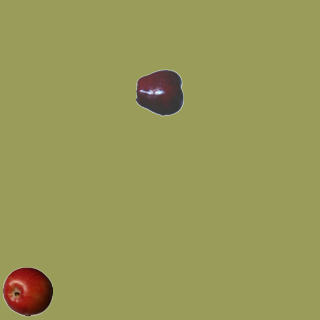Apple Braeburn: (2, 266, 52, 316)
Apple Red Delicious: (135, 67, 185, 117)
